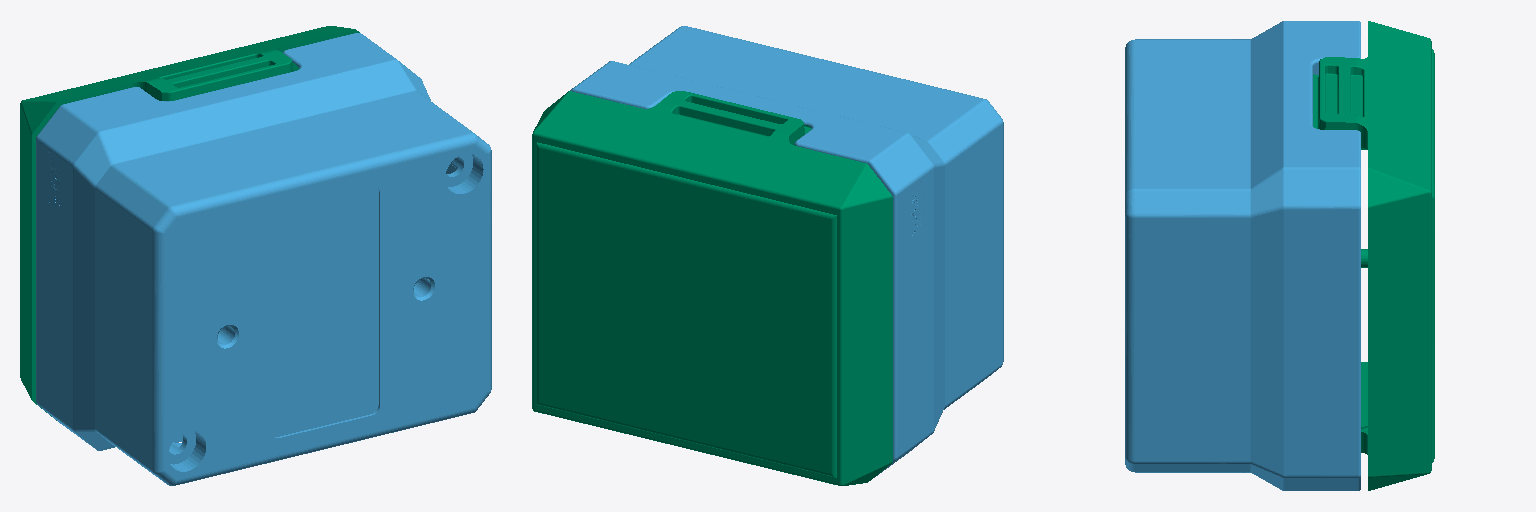
URDF robot description (gelsight mini):
<?xml version="1.0" encoding="utf-8"?>

<robot name="gelsight mini">
        <link name="world">
        </link>

        <joint name="world_to_frame1" type="fixed">
                <parent link="world"/>
                <child link="frame1"/>
                <origin rpy="0.0 0.0 0.0" xyz="0.0 0.0 0.0"/>
        </joint>

        <link name="frame1">
		<visual>
                        <origin rpy="0.0 0.0 0.0" xyz="0.0 0.0 0.0"/>
                        <geometry>
				<mesh filename="../meshes/visual/frame_part1.stl" scale="0.001 0.001 0.001"/>
                        </geometry>
                </visual>
                <collision>
                        <origin rpy="0.0 0.0 0.0" xyz="0.0 0.0 0.0"/>
                        <geometry>
				<mesh filename="../meshes/collision/frame_part1.stl" scale="0.001 0.001 0.001"/>
                        </geometry>
                </collision>
                <!-- <inertial>
                        <origin rpy="0.0 0.0 0.0" xyz="-5.76186e-3 -0.78412e-3 0.00005e-3"/>
                        <mass value="0.00165412"/>
                        <inertia ixx="0.01956e-6" iyy="0.08665e-6" izz="0.08404e-6" ixy="0.0021e-6" ixz="0.0" iyz="0.0"/>
                </inertial> -->
	</link>

        <joint name="frame1_to_frame2" type="fixed">
                <parent link="frame1"/>
                <child link="frame2"/>
                <origin rpy="0.0 0.0 0.0" xyz="0.0 0.0 0.0"/>
        </joint>

        <link name="frame2">
		<visual>
                        <origin rpy="0.0 0.0 0.0" xyz="0.0 0.0 0.0"/>
                        <geometry>
				<mesh filename="../meshes/visual/frame_part2.stl" scale="0.001 0.001 0.001"/>
                        </geometry>
                </visual>
                <collision>
                        <origin rpy="0.0 0.0 0.0" xyz="0.0 0.0 0.0"/>
                        <geometry>
				<mesh filename="../meshes/collision/frame_part2.stl" scale="0.001 0.001 0.001"/>
                        </geometry>
                </collision>
                <!-- <inertial>
                        <origin rpy="0.0 0.0 0.0" xyz="-5.76186e-3 -0.78412e-3 0.00005e-3"/>
                        <mass value="0.00165412"/>
                        <inertia ixx="0.01956e-6" iyy="0.08665e-6" izz="0.08404e-6" ixy="0.0021e-6" ixz="0.0" iyz="0.0"/>
                </inertial> -->
	</link>


	<joint name="frame2_to_gel" type="fixed">
		<parent link="frame2"/>
		<child link="gel"/>
		<origin rpy="0.0 0.0 0.0" xyz="0.0 0.0 0.0"/>
	</joint>

        <link name="gel">
                <fem>
			<origin rpy="0.0 0.0 0.0" xyz="0.0 0.0 0.0"/>
			<density value="1000"/>
			<youngs value="1e5"/>
			<poissons value="0.3223"/>
			<damping value="0.0"/>
			<attachDistance value="1.0e-5"/>
                        <!-- <attachDistance value="0.01"/> -->
			<tetmesh filename="../meshes/collision/gelsight_gel_0.2.tet"/>
                        <scale value="0.001"/>
		</fem>
        </link>
</robot>

--- What the picture shows (computed from the rendered views, not written in the file) ---
Views: 3 orthographic renders of the robot side by side, from view 1: azimuth 30°, elevation 25°; view 2: azimuth 150°, elevation 25°; view 3: azimuth 270°, elevation 25°.
Model gelsight mini with 4 links and 3 joints (3 fixed), rooted at world, posed all joints at 0.
Links seen in each view (by area): view 1: frame1, frame2; view 2: frame2, frame1; view 3: frame1, frame2.
Link boxes in pixels (x1=…): frame1: x1=36, y1=33, x2=491, y2=485; frame2: x1=20, y1=26, x2=359, y2=420; frame2: x1=532, y1=91, x2=892, y2=485; frame1: x1=570, y1=26, x2=1003, y2=477; frame1: x1=1125, y1=21, x2=1360, y2=490; frame2: x1=1313, y1=21, x2=1434, y2=490.
Bounding box of the posed robot: 0.032 × 0.0243 × 0.0289 m (x, y, z).
2 mesh visuals loaded from 2 distinct referenced files (2 binary STL).
